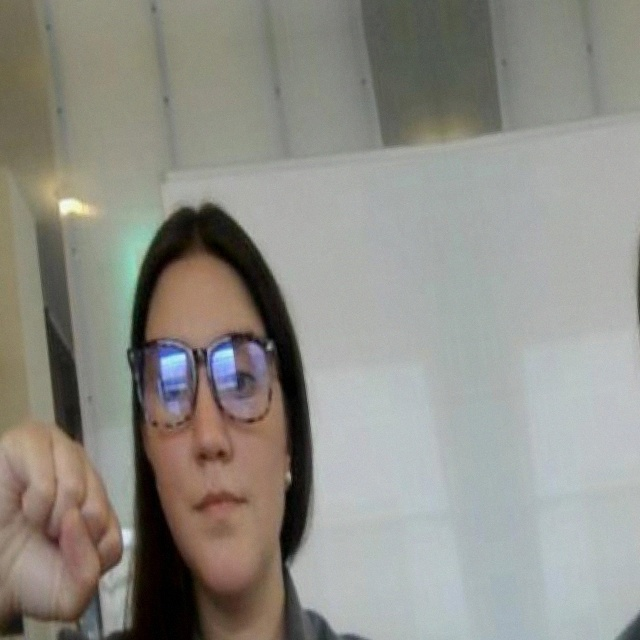Rock: (0, 404, 143, 640)
